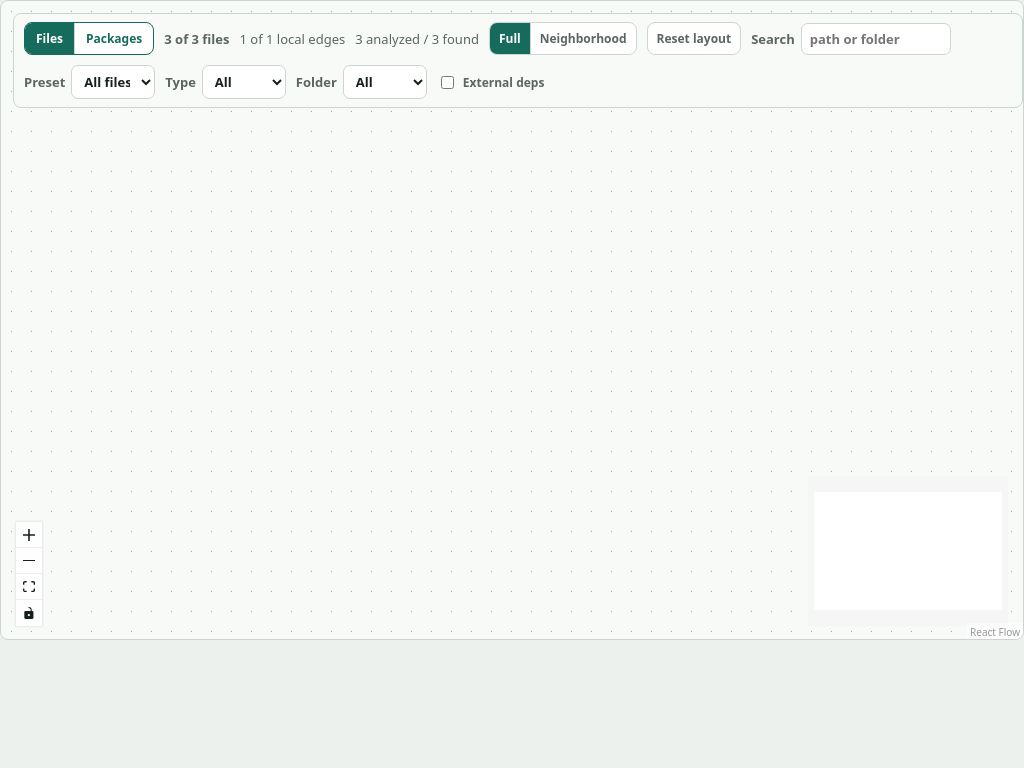
Test case: GraphCanvas › filters graph nodes by top folder
Select "docs" in the dropdown named "Filter graph by folder": point(385, 82) [343,65,427,99]
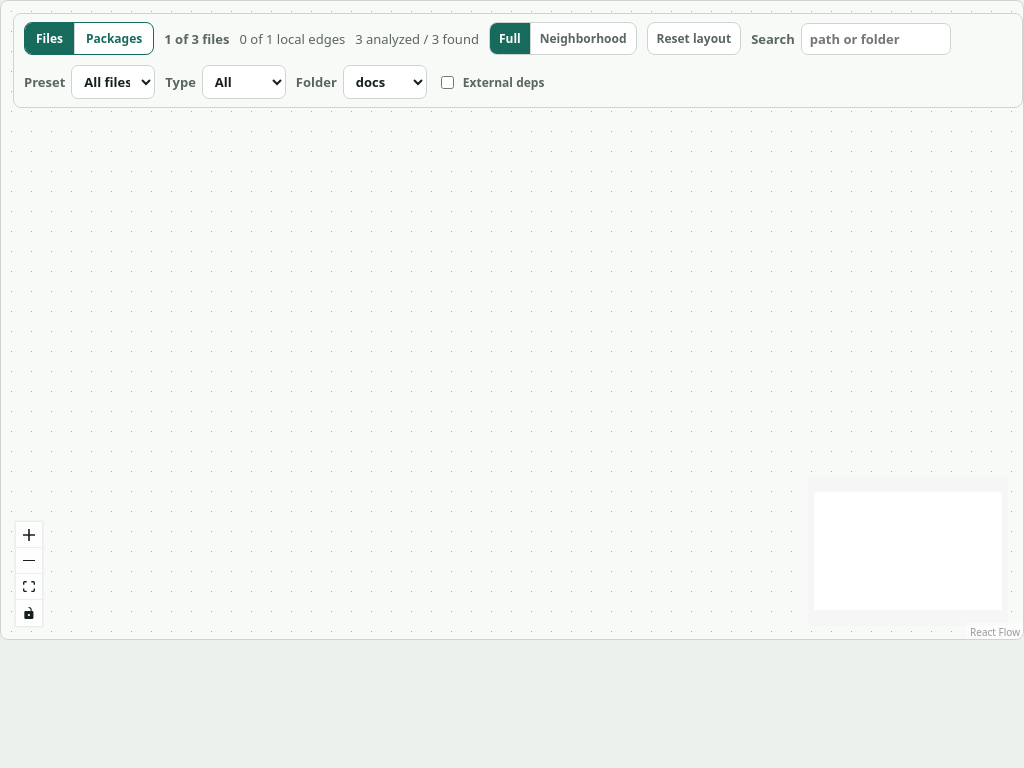
Result: the text "1 of 3 files" is shown at [164,30,230,48]
